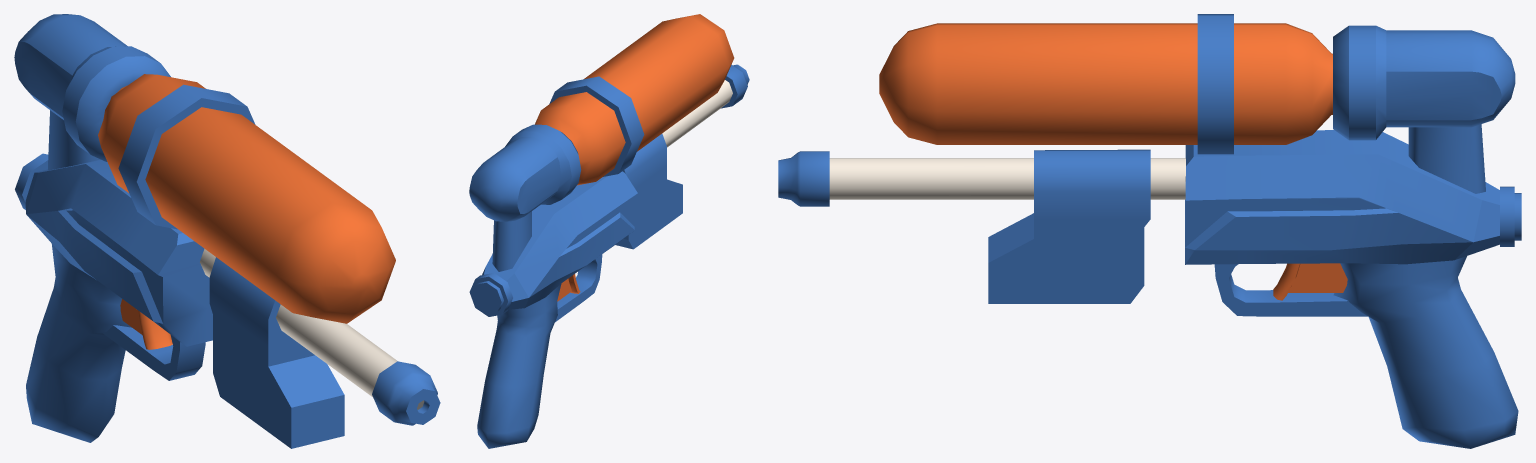
Rendered from Watergun_01.fbx.
3 views of the same model, side by side, from view 1: azimuth 30°, elevation 25°; view 2: azimuth 150°, elevation 25°; view 3: azimuth 270°, elevation 25° (orthographic). The views are drawn at different scales.
Parts seen in each view (by area): view 1: Watergun_01; view 2: Watergun_01; view 3: Watergun_01.
Part boxes in pixels (left/top/right/bottom): Watergun_01: left=14, top=14, right=440, bottom=448; Watergun_01: left=469, top=14, right=749, bottom=448; Watergun_01: left=778, top=14, right=1521, bottom=448.
Bounding box in the file's own units: 0.1114 × 0.3511 × 0.5536.
